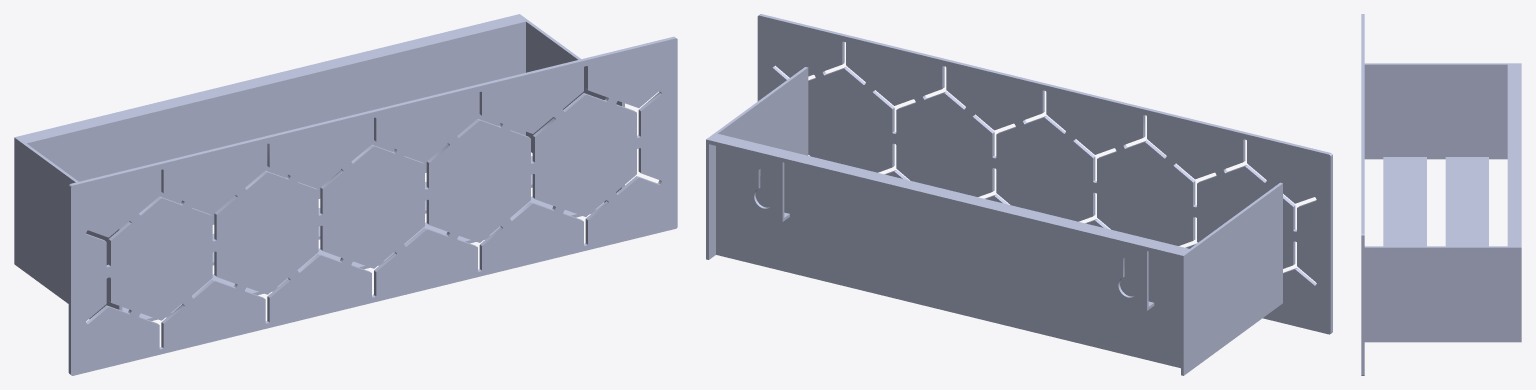
Rendered from bee-mono.d0858a01eb.glb.
3 renders of one model, left to right at view 1: azimuth 30°, elevation 25°; view 2: azimuth 150°, elevation 25°; view 3: azimuth 270°, elevation 25°, orthographic. The views are drawn at different scales.
Visible parts, largest first — view 1: NAUO1; view 2: NAUO1; view 3: NAUO1.
Boxes of the visible parts, x1=… form: NAUO1: x1=14, y1=14, x2=677, y2=375; NAUO1: x1=706, y1=14, x2=1332, y2=375; NAUO1: x1=1361, y1=14, x2=1521, y2=375.
Size of the model in its own units: 0.3 by 0.09 by 0.092.
